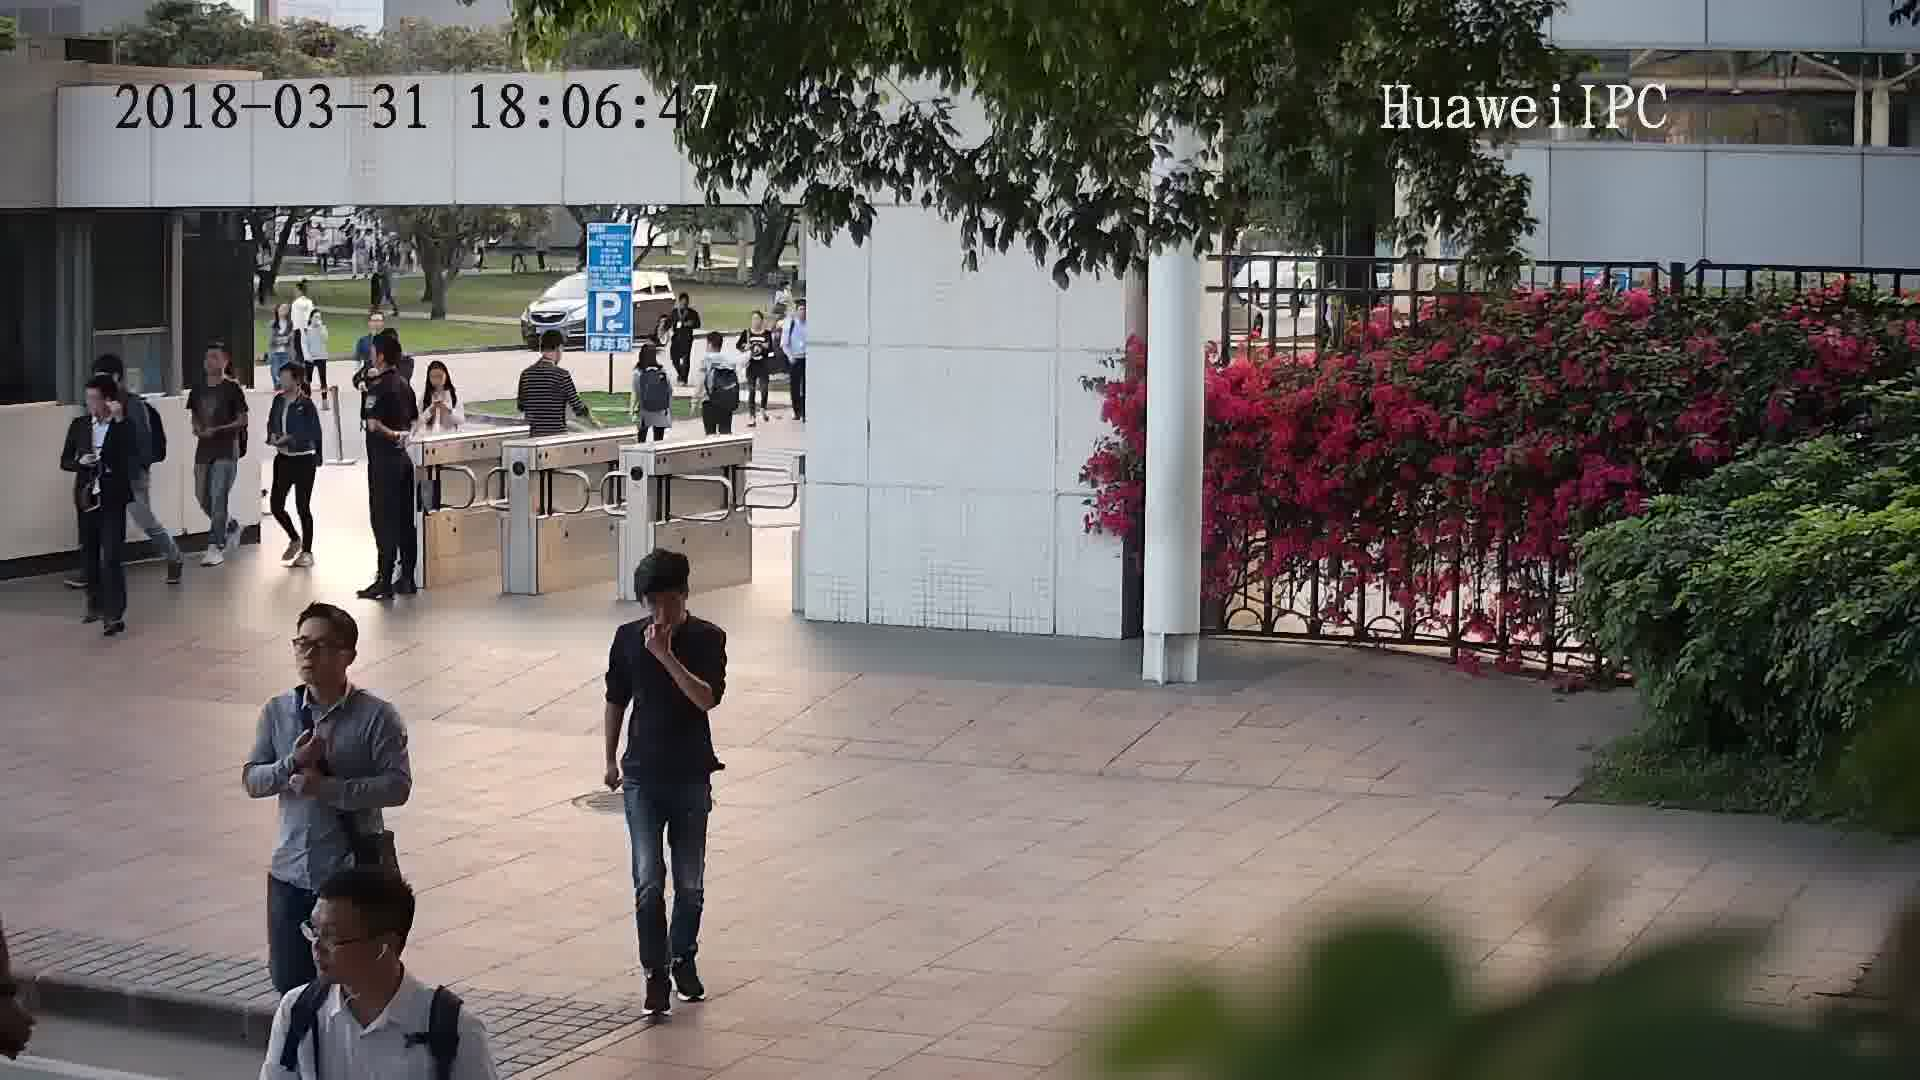face: (293, 890, 388, 985), (282, 611, 354, 683)
person: (270, 866, 475, 1039), (257, 602, 399, 736), (608, 543, 721, 664), (78, 373, 142, 437), (190, 340, 246, 400), (363, 334, 413, 394), (525, 329, 575, 384), (272, 360, 320, 416), (423, 358, 461, 406), (633, 337, 676, 380), (281, 273, 322, 317), (702, 329, 737, 361), (266, 300, 299, 332), (358, 308, 388, 342), (745, 307, 773, 340), (302, 305, 330, 337), (671, 289, 701, 317), (786, 300, 811, 332), (773, 279, 800, 305)
